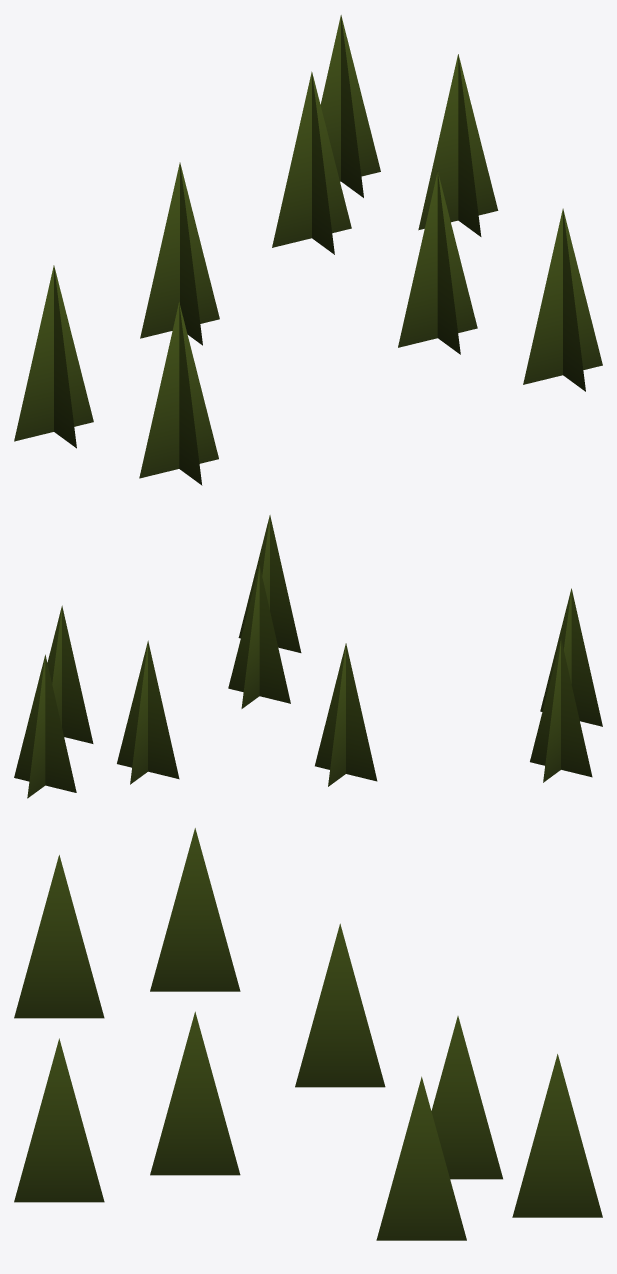
File: SM_Grass.fbx
3 renders of one model, top to bottom at view 1: azimuth 30°, elevation 25°; view 2: azimuth 150°, elevation 25°; view 3: azimuth 270°, elevation 25°, orthographic. The views are drawn at different scales.
Visible parts, largest first — view 1: SM_Grass; view 2: SM_Grass; view 3: SM_Grass.
Part boxes in pixels (box(x1,y1,x2,y2)): SM_Grass: box(14, 15, 602, 485); SM_Grass: box(14, 515, 602, 798); SM_Grass: box(14, 828, 602, 1240).
Size of the model in its own units: 58.59 by 15.63 by 50.78.
